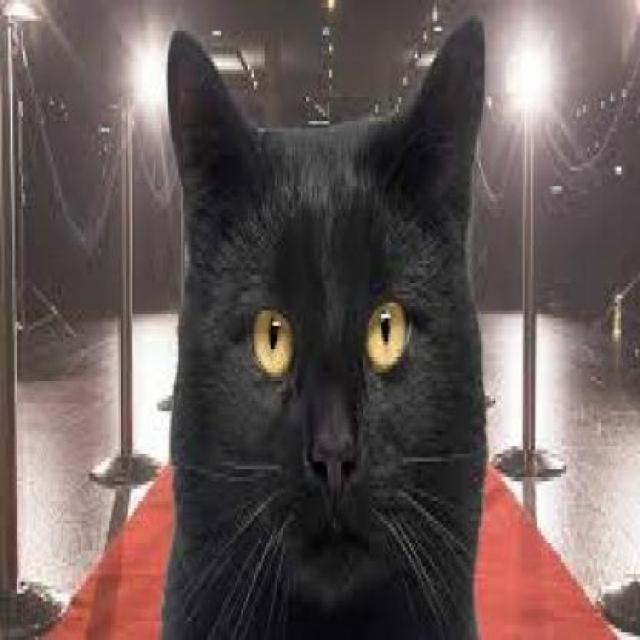animals: (153, 12, 498, 636)
